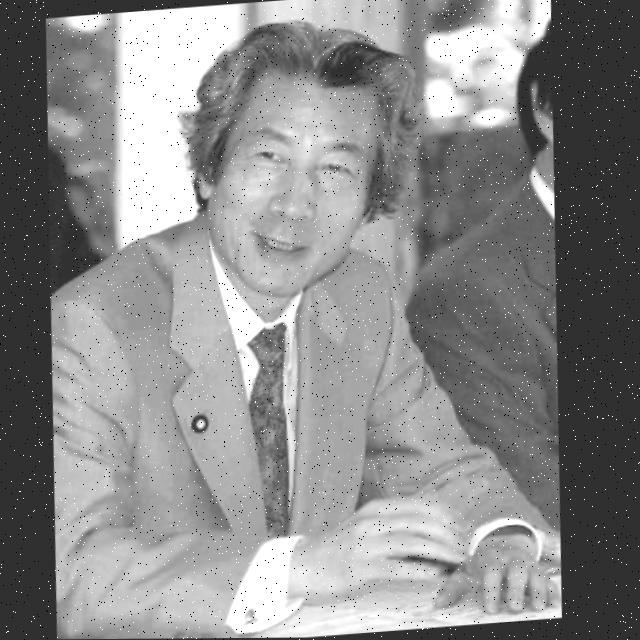face: (186, 67, 391, 308)
